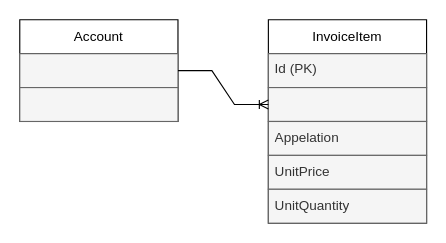
This 446x243 diagram has some shape labels left out. The box of each missing label's shape, as (x1, y1, x2, y2) in pixels:
AccountNumber (FK): (267, 86, 427, 121)
AccountNumber (PK): (19, 53, 178, 88)
Invoice Date: (19, 86, 178, 121)
